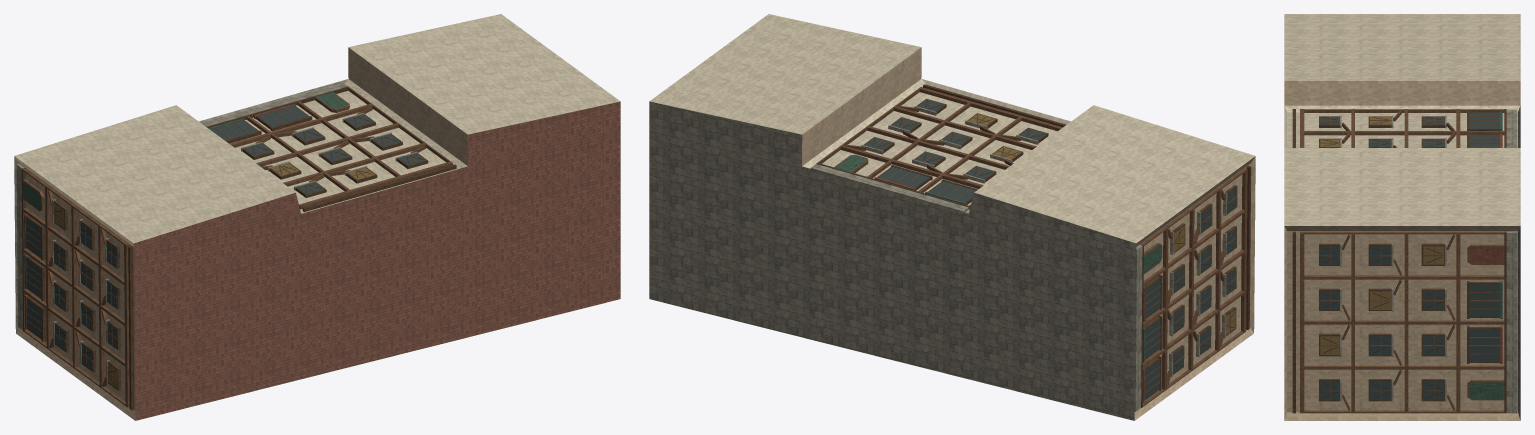
The model's file is SM_GLMedieval_SpawnCorner_Review.obj.
The picture shows the model from 3 angles, left to right: view 1: azimuth 30°, elevation 25°; view 2: azimuth 150°, elevation 25°; view 3: azimuth 270°, elevation 25°; orthographic projection.
Parts seen in each view (by area): view 1: Structure, Edge_05_001, Edge_05_007, Edge_05_004, Edge_02_007, Edge_05_003, Edge_05_005, Edge_02_001, Edge_05_006, Edge_02_004, Edge_02_006, Edge_02_003 (+7 smaller); view 2: Structure, Edge_05_001, Edge_02_001, Edge_05_006, Edge_05_003, Edge_05_004, Edge_05_005, Edge_02_006, Edge_02_003, Edge_02_005, Edge_02_004, Edge_05_007 (+7 smaller); view 3: Structure, Edge_07_001, Edge_07_011, Edge_07_041, Edge_07_072, Edge_07_009, Edge_07_010, Edge_07_003, Edge_07_006, Edge_07_004, Edge_02_010, Edge_07_012 (+22 smaller).
Part boxes in pixels (bbox=[...]): Structure: bbox=[14, 14, 620, 420]; Edge_05_001: bbox=[16, 164, 24, 330]; Edge_05_007: bbox=[128, 246, 134, 410]; Edge_05_004: bbox=[71, 204, 77, 368]; Edge_02_007: bbox=[302, 164, 456, 211]; Edge_05_003: bbox=[45, 185, 51, 349]; Edge_05_005: bbox=[98, 224, 104, 388]; Edge_02_001: bbox=[201, 83, 347, 126]; Edge_05_006: bbox=[124, 243, 129, 407]; Edge_02_004: bbox=[256, 123, 399, 166]; Edge_02_006: bbox=[299, 161, 452, 209]; Edge_02_003: bbox=[230, 103, 373, 147]; Structure: bbox=[649, 14, 1255, 420]; Edge_05_001: bbox=[1134, 245, 1142, 411]; Edge_02_001: bbox=[810, 164, 968, 212]; Edge_05_006: bbox=[1241, 168, 1247, 332]; Edge_05_003: bbox=[1162, 226, 1168, 390]; Edge_05_004: bbox=[1188, 207, 1194, 371]; Edge_05_005: bbox=[1215, 187, 1221, 351]; Edge_02_006: bbox=[919, 87, 1062, 131]; Edge_02_003: bbox=[840, 145, 983, 188]; Edge_02_005: bbox=[893, 106, 1036, 149]; Edge_02_004: bbox=[866, 126, 1009, 169]; Edge_05_007: bbox=[1246, 165, 1251, 329]; Structure: bbox=[1284, 14, 1520, 420]; Edge_07_001: bbox=[1506, 231, 1517, 413]; Edge_07_011: bbox=[1304, 275, 1504, 279]; Edge_07_041: bbox=[1469, 329, 1499, 361]; Edge_07_072: bbox=[1469, 284, 1499, 316]; Edge_07_009: bbox=[1304, 365, 1504, 369]; Edge_07_010: bbox=[1304, 320, 1504, 324]; Edge_07_003: bbox=[1456, 231, 1460, 413]; Edge_07_006: bbox=[1300, 231, 1304, 413]; Edge_07_004: bbox=[1404, 231, 1408, 413]; Edge_02_010: bbox=[1304, 131, 1504, 135]; Edge_07_012: bbox=[1304, 231, 1504, 234].
Bounding box in the file's own units: 34.82 × 14.02 × 14.8.
Materials: 11 (8 with a texture image).
